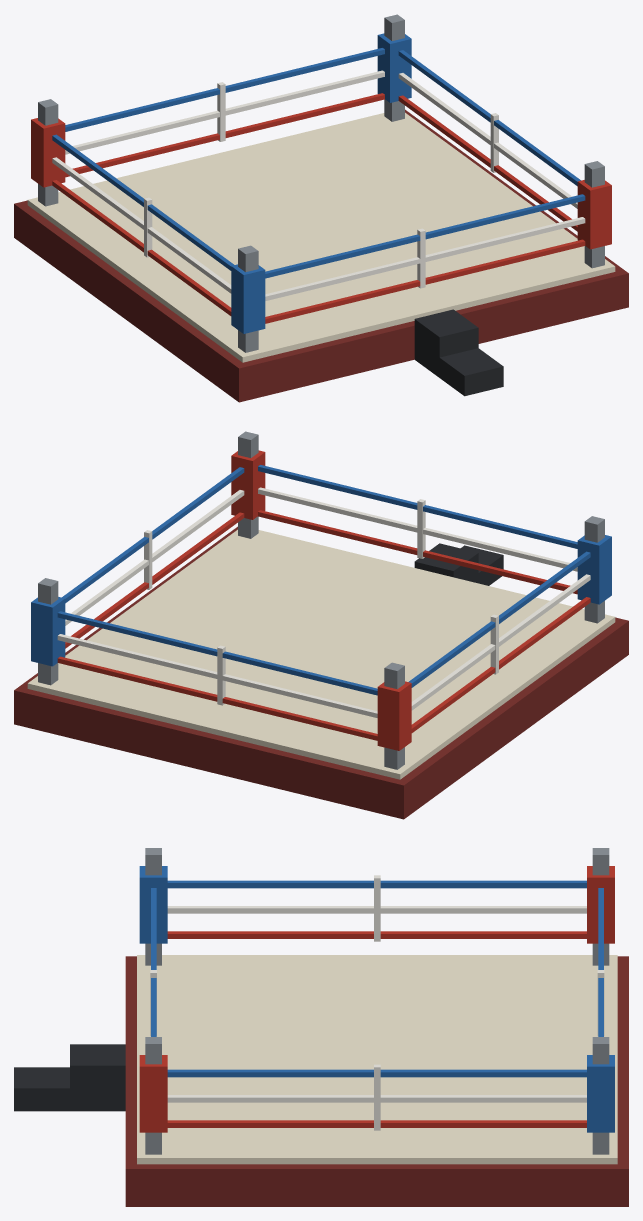
The model's file is BoxingRing.fbx.
3 views of the same model, one above another, from view 1: azimuth 30°, elevation 25°; view 2: azimuth 150°, elevation 25°; view 3: azimuth 270°, elevation 25° (orthographic). The views are drawn at different scales.
Parts seen in each view (by area): view 1: BoxingRing_Mesh; view 2: BoxingRing_Mesh; view 3: BoxingRing_Mesh.
Boxes of the visible parts, left/top/right/bottom form: BoxingRing_Mesh: left=14, top=14, right=628, bottom=402; BoxingRing_Mesh: left=14, top=431, right=628, bottom=819; BoxingRing_Mesh: left=14, top=848, right=628, bottom=1206.
Bounding box in the file's own units: 9 × 3.05 × 11.
1 material, 1 textured.
